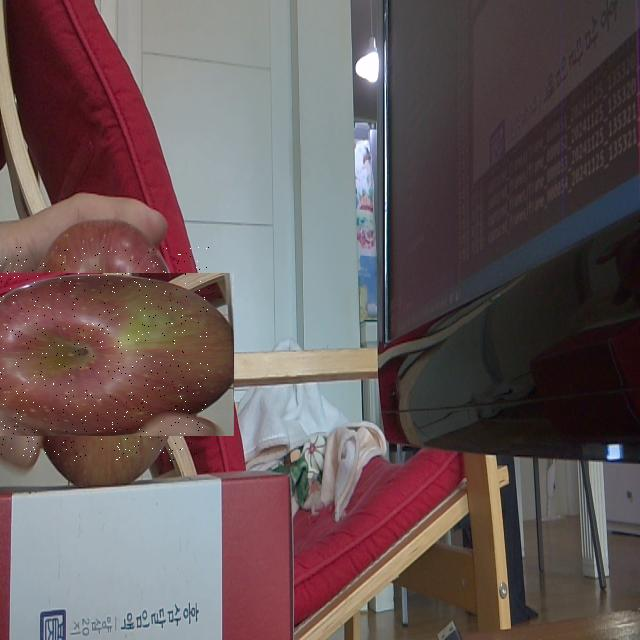apple: (0, 247, 209, 461)
